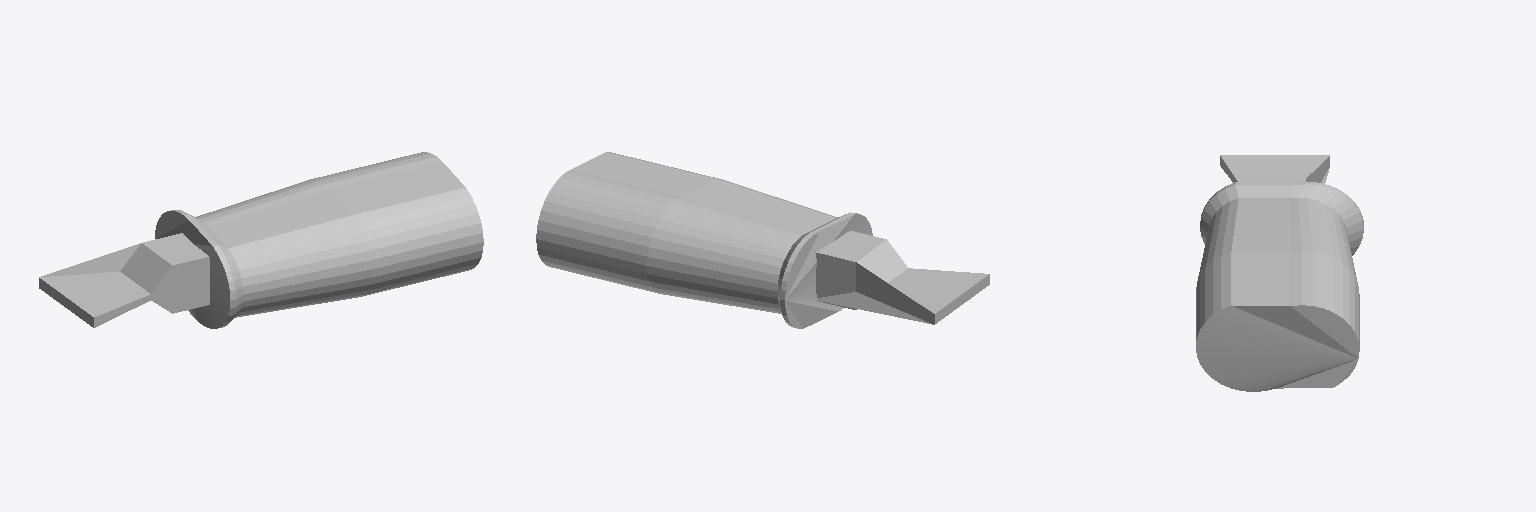
File: Spatel.obj
The picture shows the model from 3 angles: view 1: azimuth 30°, elevation 25°; view 2: azimuth 150°, elevation 25°; view 3: azimuth 270°, elevation 25°; orthographic projection.
Visible parts, largest first — view 1: Zylinder; view 2: Zylinder; view 3: Zylinder.
Boxes of the visible parts, <box> form: Zylinder: <box>39,152,483,328</box>; Zylinder: <box>536,152,989,328</box>; Zylinder: <box>1196,155,1363,391</box>.
Bounding box in the file's own units: 0.1776 × 0.0402 × 0.0675.